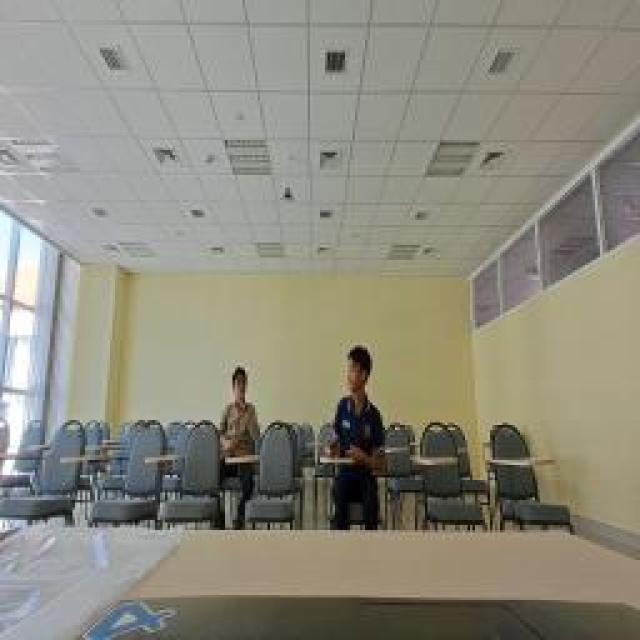study: (327, 345, 385, 460), (220, 365, 258, 455)
